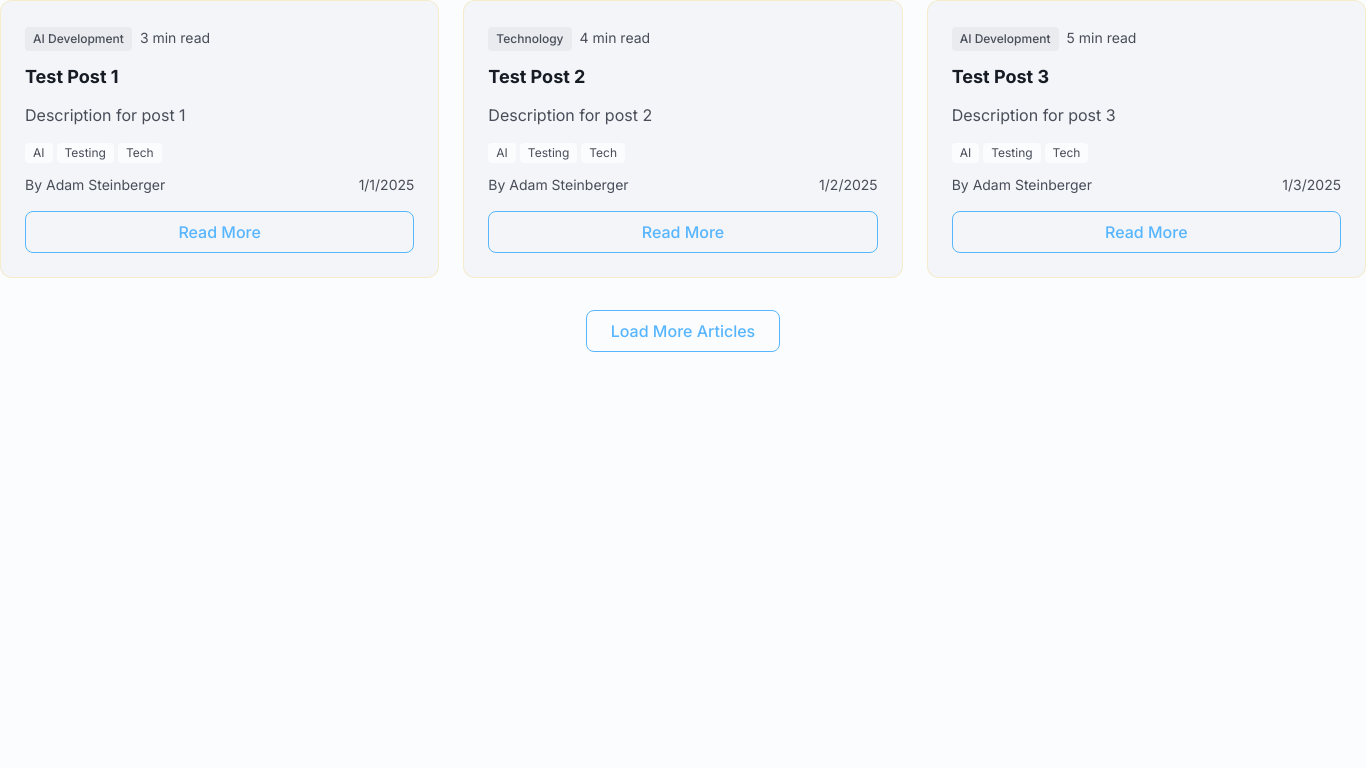
Test: InfiniteScrollBlog › load more functionality › loads more posts after clicking and waiting
This screenshot has width=1366, height=768.
Expected: the text "Test Post 4" is not shown
Click the button "Load More Articles" at {"x": 683, "y": 331}, box [586,310,780,352]
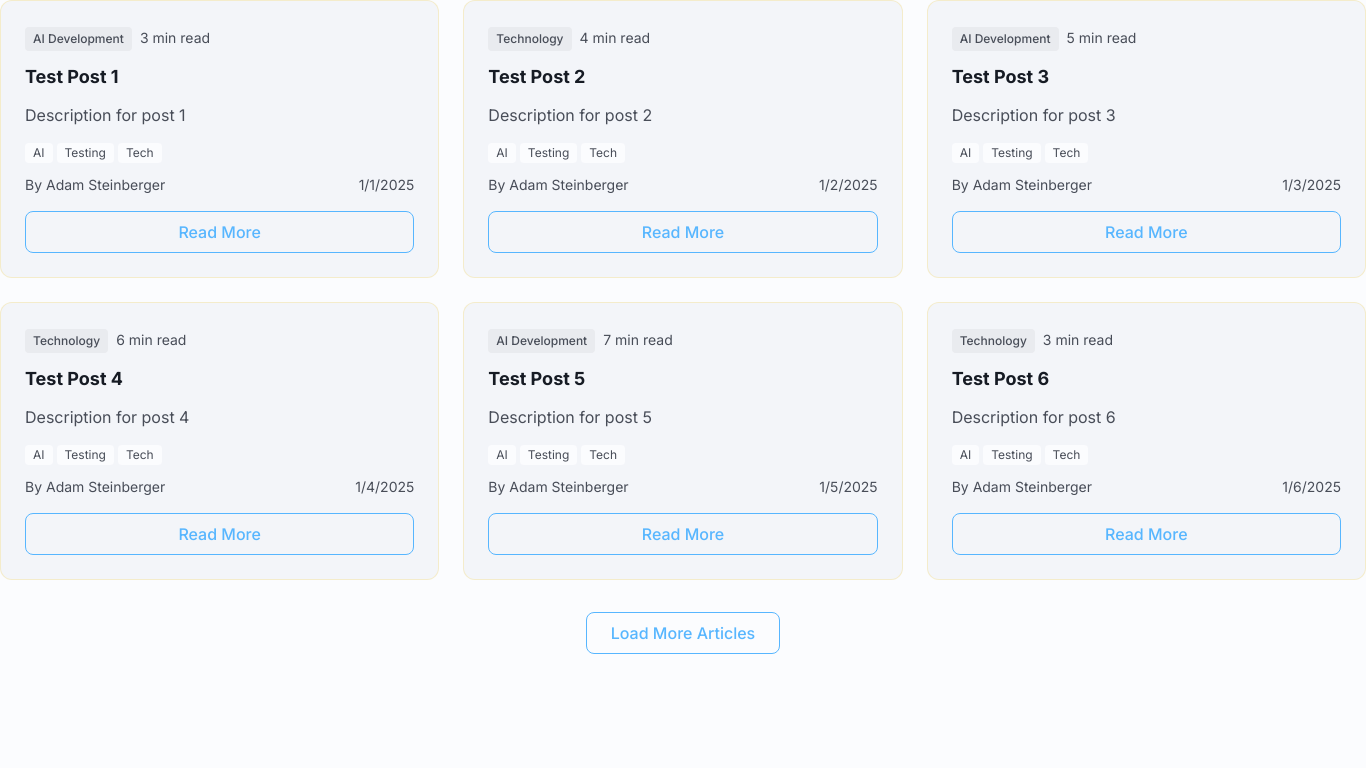
Expected: the heading "Test Post 4" is shown, [25,368,123,389]
